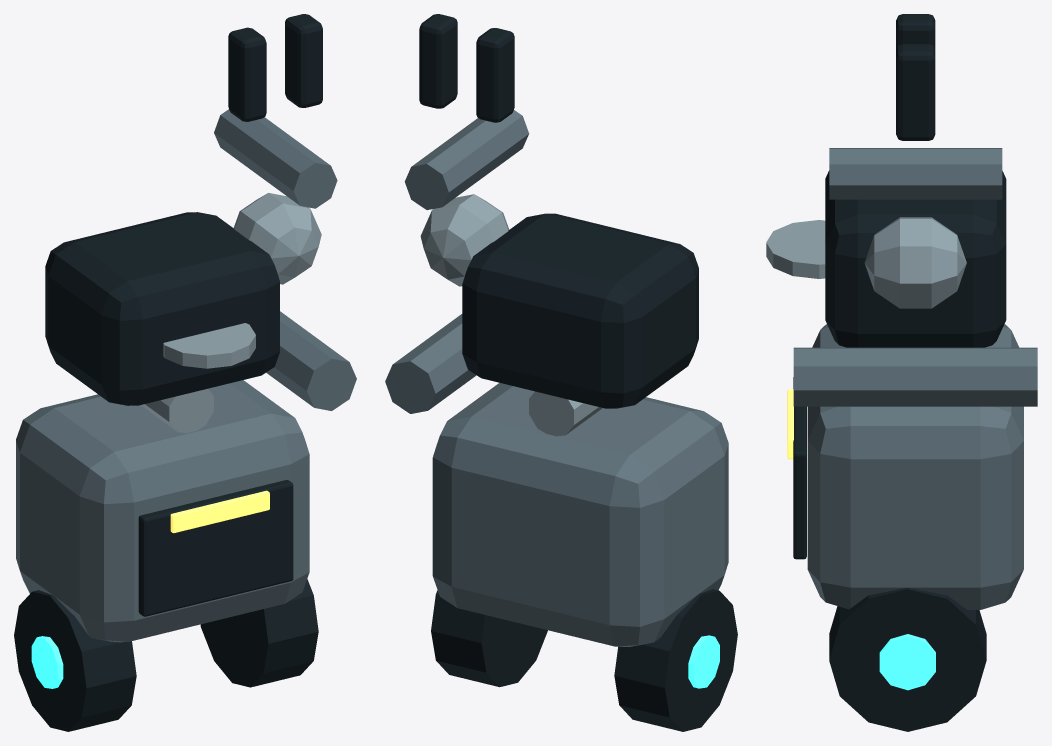
File: agent-dum-e.glb
The picture shows the model from 3 angles, left to right: view 1: azimuth 30°, elevation 25°; view 2: azimuth 150°, elevation 25°; view 3: azimuth 270°, elevation 25°; orthographic projection. The views are drawn at different scales.
Visible parts, largest first — view 1: body, head, belly_panel, wheel_-1, wheel_1, arm_forearm, arm_upper, arm_elbow, claw_-1, claw_1, lens_outer, status_bar (+2 smaller); view 2: body, head, wheel_-1, wheel_1, arm_forearm, arm_upper, arm_elbow, claw_1, claw_-1, neck, hub_-1; view 3: body, head, wheel_1, arm_upper, arm_forearm, arm_elbow, claw_1, lens_outer, hub_1, belly_panel, claw_-1, status_bar.
Part boxes in pixels (x1=…): body: x1=16, y1=380, x2=309, y2=642; head: x1=45, y1=212, x2=279, y2=405; belly_panel: x1=138, y1=480, x2=293, y2=616; wheel_-1: x1=14, y1=590, x2=136, y2=731; wheel_1: x1=200, y1=579, x2=318, y2=687; arm_forearm: x1=214, y1=109, x2=337, y2=208; arm_upper: x1=266, y1=311, x2=356, y2=410; arm_elbow: x1=233, y1=193, x2=321, y2=284; claw_-1: x1=228, y1=27, x2=266, y2=121; claw_1: x1=285, y1=14, x2=322, y2=107; lens_outer: x1=163, y1=323, x2=255, y2=368; status_bar: x1=170, y1=490, x2=269, y2=533; body: x1=432, y1=382, x2=728, y2=646; head: x1=462, y1=213, x2=698, y2=408; wheel_-1: x1=614, y1=589, x2=737, y2=731; wheel_1: x1=431, y1=590, x2=547, y2=687; arm_forearm: x1=404, y1=110, x2=529, y2=209; arm_upper: x1=385, y1=314, x2=476, y2=413; arm_elbow: x1=420, y1=194, x2=509, y2=286; claw_1: x1=419, y1=14, x2=457, y2=108; claw_-1: x1=476, y1=28, x2=514, y2=122; neck: x1=529, y1=391, x2=602, y2=436; hub_-1: x1=688, y1=635, x2=719, y2=688; body: x1=807, y1=324, x2=1023, y2=609; head: x1=825, y1=170, x2=1006, y2=347; wheel_1: x1=829, y1=587, x2=986, y2=731; arm_upper: x1=793, y1=347, x2=1037, y2=406; arm_forearm: x1=829, y1=148, x2=1002, y2=199; arm_elbow: x1=864, y1=217, x2=966, y2=308; claw_1: x1=896, y1=44, x2=935, y2=140; lens_outer: x1=766, y1=220, x2=825, y2=278; hub_1: x1=879, y1=634, x2=935, y2=690; belly_panel: x1=793, y1=377, x2=806, y2=559; claw_-1: x1=896, y1=14, x2=935, y2=49; status_bar: x1=787, y1=389, x2=793, y2=459.
Bounding box in the file's own units: 0.878 × 1.96 × 0.69.
